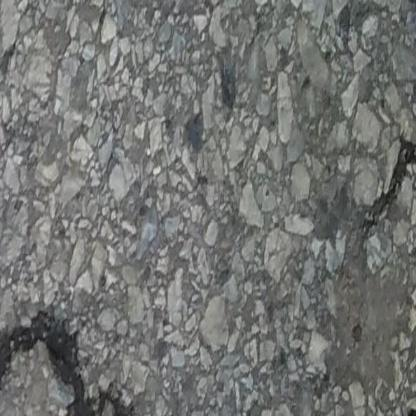Cracks: (0, 297, 146, 416), (386, 385, 416, 416)
